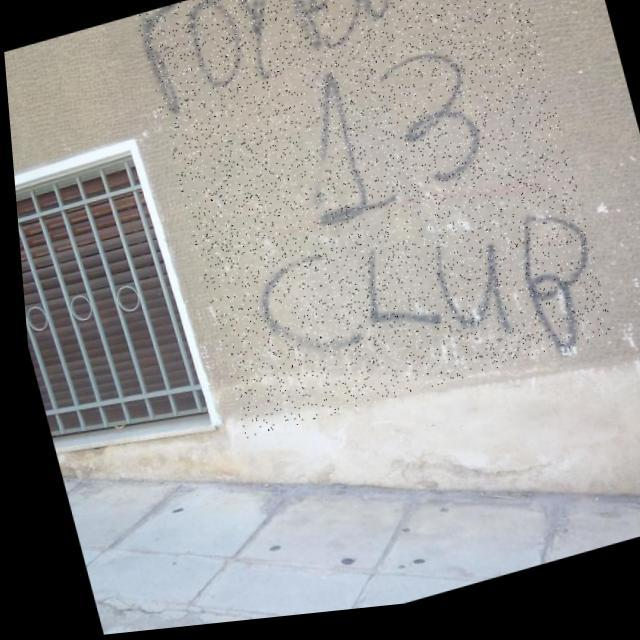-: (132, 0, 611, 449)
